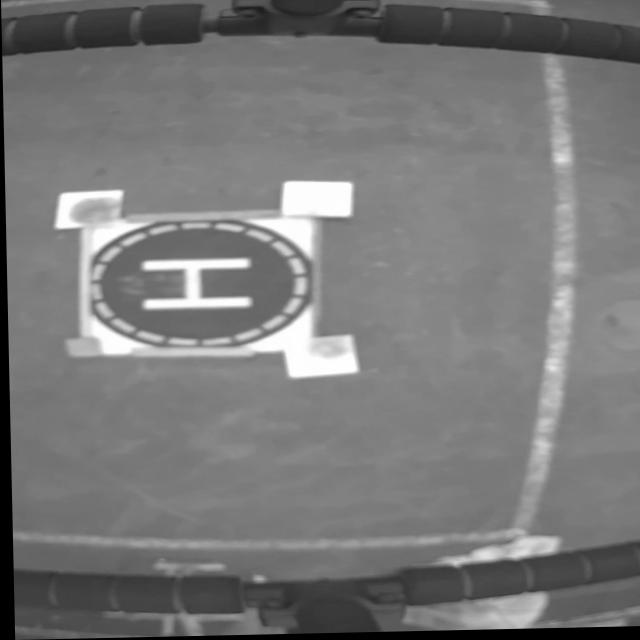Helipad: (139, 258, 249, 312)
